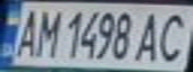1: (60, 7, 84, 58)
4: (78, 7, 100, 60)
8: (112, 8, 139, 62)
9: (97, 7, 118, 60)
A: (133, 8, 169, 63), (9, 4, 42, 58)
C: (151, 8, 193, 63)
M: (30, 6, 63, 58)
